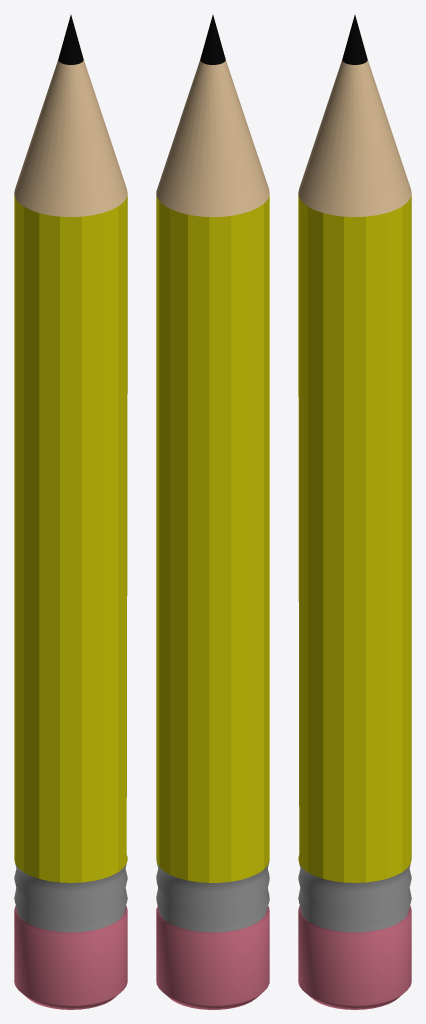
File: Pencil.fbx
3 renders of one model, left to right at view 1: azimuth 90°, elevation 25°; view 2: azimuth 210°, elevation 25°; view 3: azimuth 270°, elevation 25°, orthographic.
Visible parts, largest first — view 1: Cylinder.001, Cylinder.002, Cylinder; view 2: Cylinder.001, Cylinder.002, Cylinder; view 3: Cylinder.001, Cylinder.002, Cylinder.
Boxes of the visible parts, x1,y1,x2,y2 form: Cylinder.001: (14, 195, 127, 882); Cylinder.002: (14, 864, 127, 1009); Cylinder: (14, 15, 127, 216); Cylinder.001: (156, 194, 269, 882); Cylinder.002: (156, 862, 269, 1009); Cylinder: (156, 15, 269, 216); Cylinder.001: (298, 195, 411, 882); Cylinder.002: (298, 864, 411, 1009); Cylinder: (298, 15, 411, 216).
Bounding box in the file's own units: 38.77 × 367 × 38.77.
